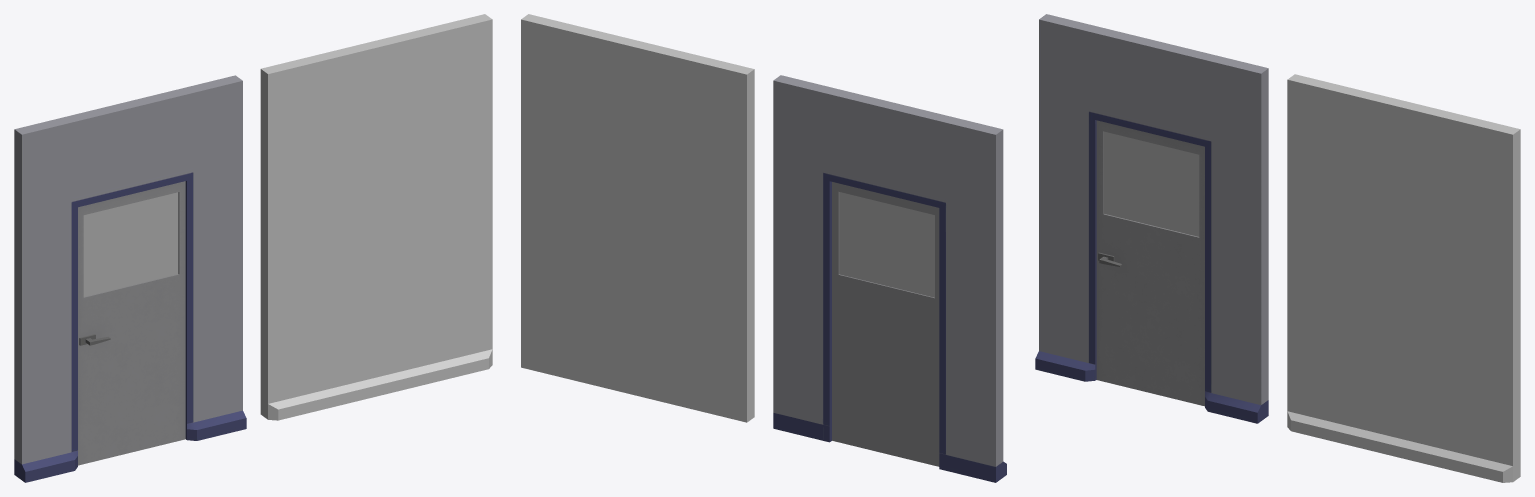
The model's file is Mur et portes.fbx.
The picture shows the model from 3 angles, left to right: view 1: azimuth 30°, elevation 25°; view 2: azimuth 150°, elevation 25°; view 3: azimuth 330°, elevation 25°; orthographic projection.
Visible parts, largest first — view 1: Mur, MurPorte, Porte; view 2: Mur, MurPorte, Porte; view 3: Mur, MurPorte, Porte.
Boxes of the visible parts, x1,y1,x2,y2 form: Mur: (260, 14, 492, 420); MurPorte: (14, 75, 246, 482); Porte: (78, 181, 185, 465); Mur: (521, 14, 754, 422); MurPorte: (773, 75, 1006, 482); Porte: (832, 182, 939, 466); Mur: (1287, 74, 1520, 482); MurPorte: (1035, 14, 1268, 423); Porte: (1096, 120, 1204, 406).
Bounding box in the file's own units: 3.79 × 0.1682 × 2.66.
